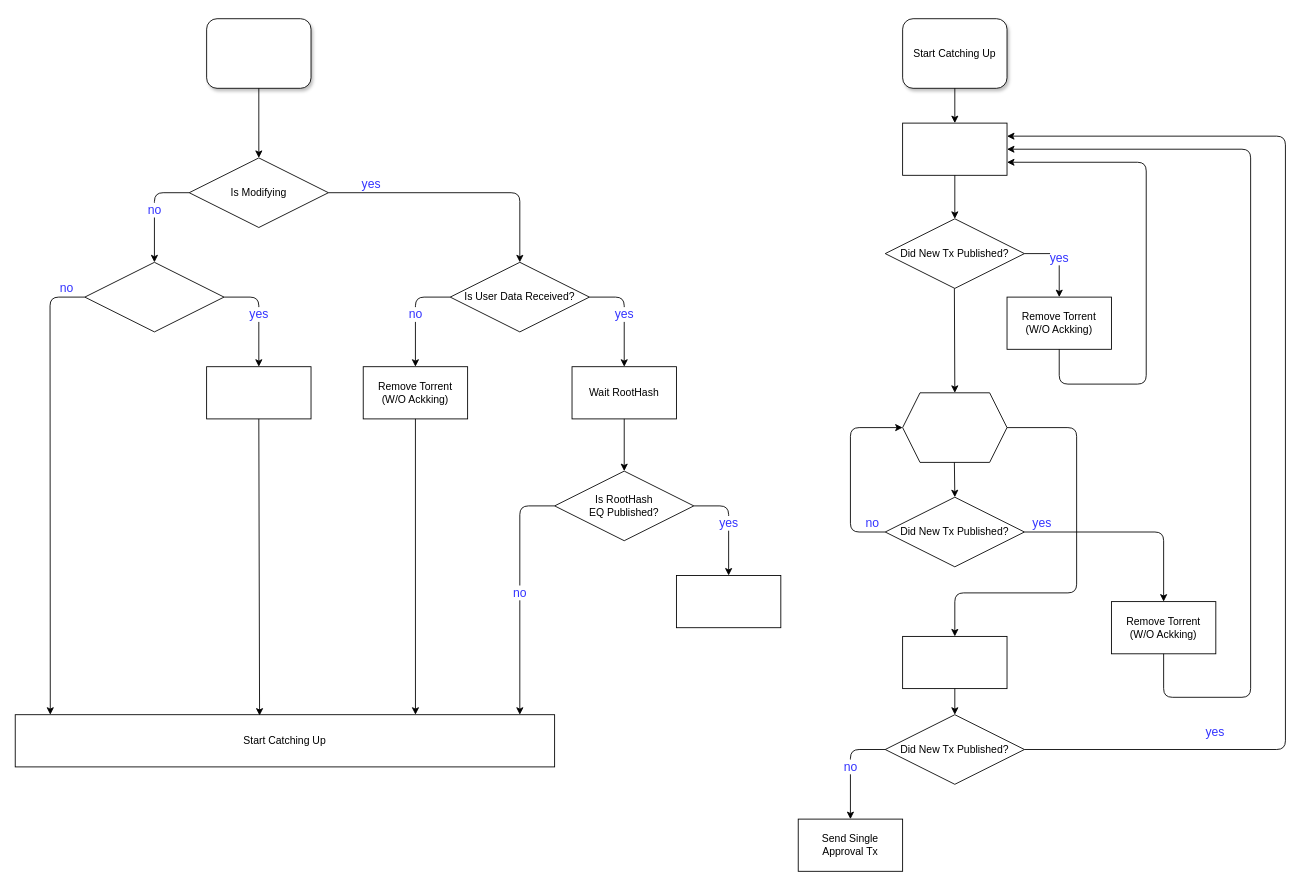
The diagram is 1308 pixels wide and 887 high, and some of its shapes have lost their labels. The shapes that lost their labels are listed below. From the top down, each one's centre as x and y in pixels, then its label:
At point 259,54: "ModifyApproval Transaction HasBeenPublished".
At point 954,148: "Start Download FsTree".
At point 154,296: "Is Canceling Modification".
At point 258,392: "Wait The End Of The Operation".
At point 954,427: "Download Missing Files".
At point 728,601: "Break Catching Up".
At point 954,662: "Calculate New RootHash".
